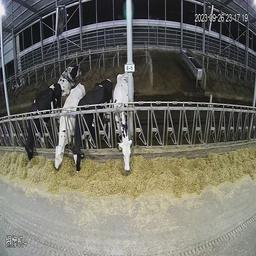cow: (73, 79, 113, 173), (25, 83, 62, 166), (52, 82, 85, 168), (114, 72, 137, 176), (57, 63, 82, 95)
